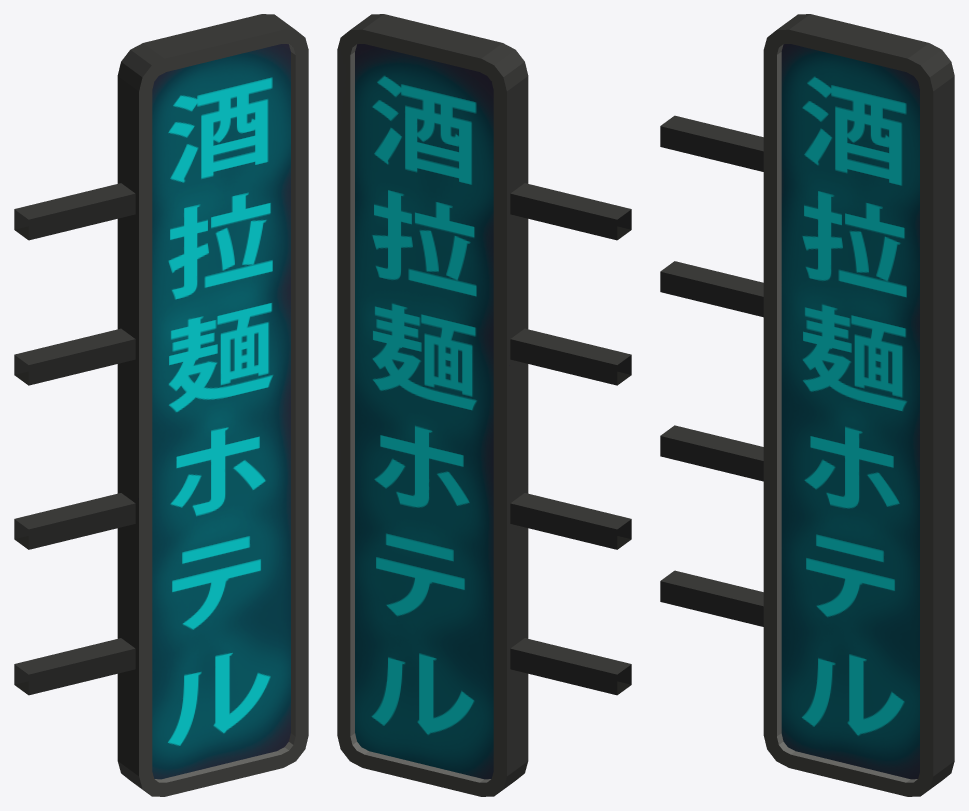
File: prop.signbig2.fbx
3 views of the same model, side by side, from view 1: azimuth 30°, elevation 25°; view 2: azimuth 150°, elevation 25°; view 3: azimuth 330°, elevation 25° (orthographic).
Visible parts, largest first — view 1: sign_big; view 2: sign_big; view 3: sign_big.
Boxes of the visible parts, bbox=[...] form: sign_big: bbox=[14, 14, 308, 796]; sign_big: bbox=[337, 14, 631, 796]; sign_big: bbox=[660, 14, 954, 796].
Bounding box in the file's own units: 326 × 832 × 43.83.
